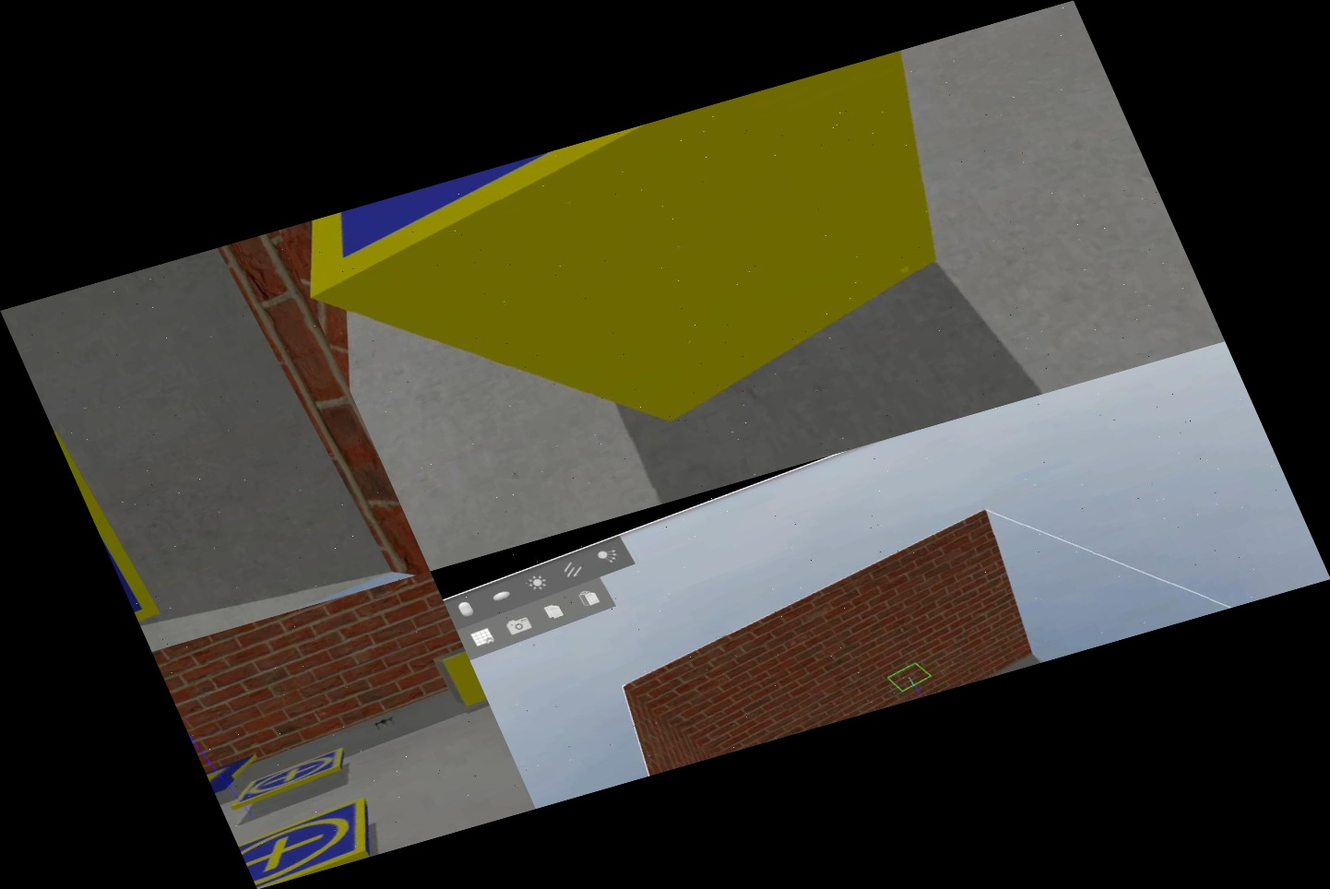small_base: (279, 43, 955, 300), (233, 793, 398, 888), (221, 745, 365, 814)
